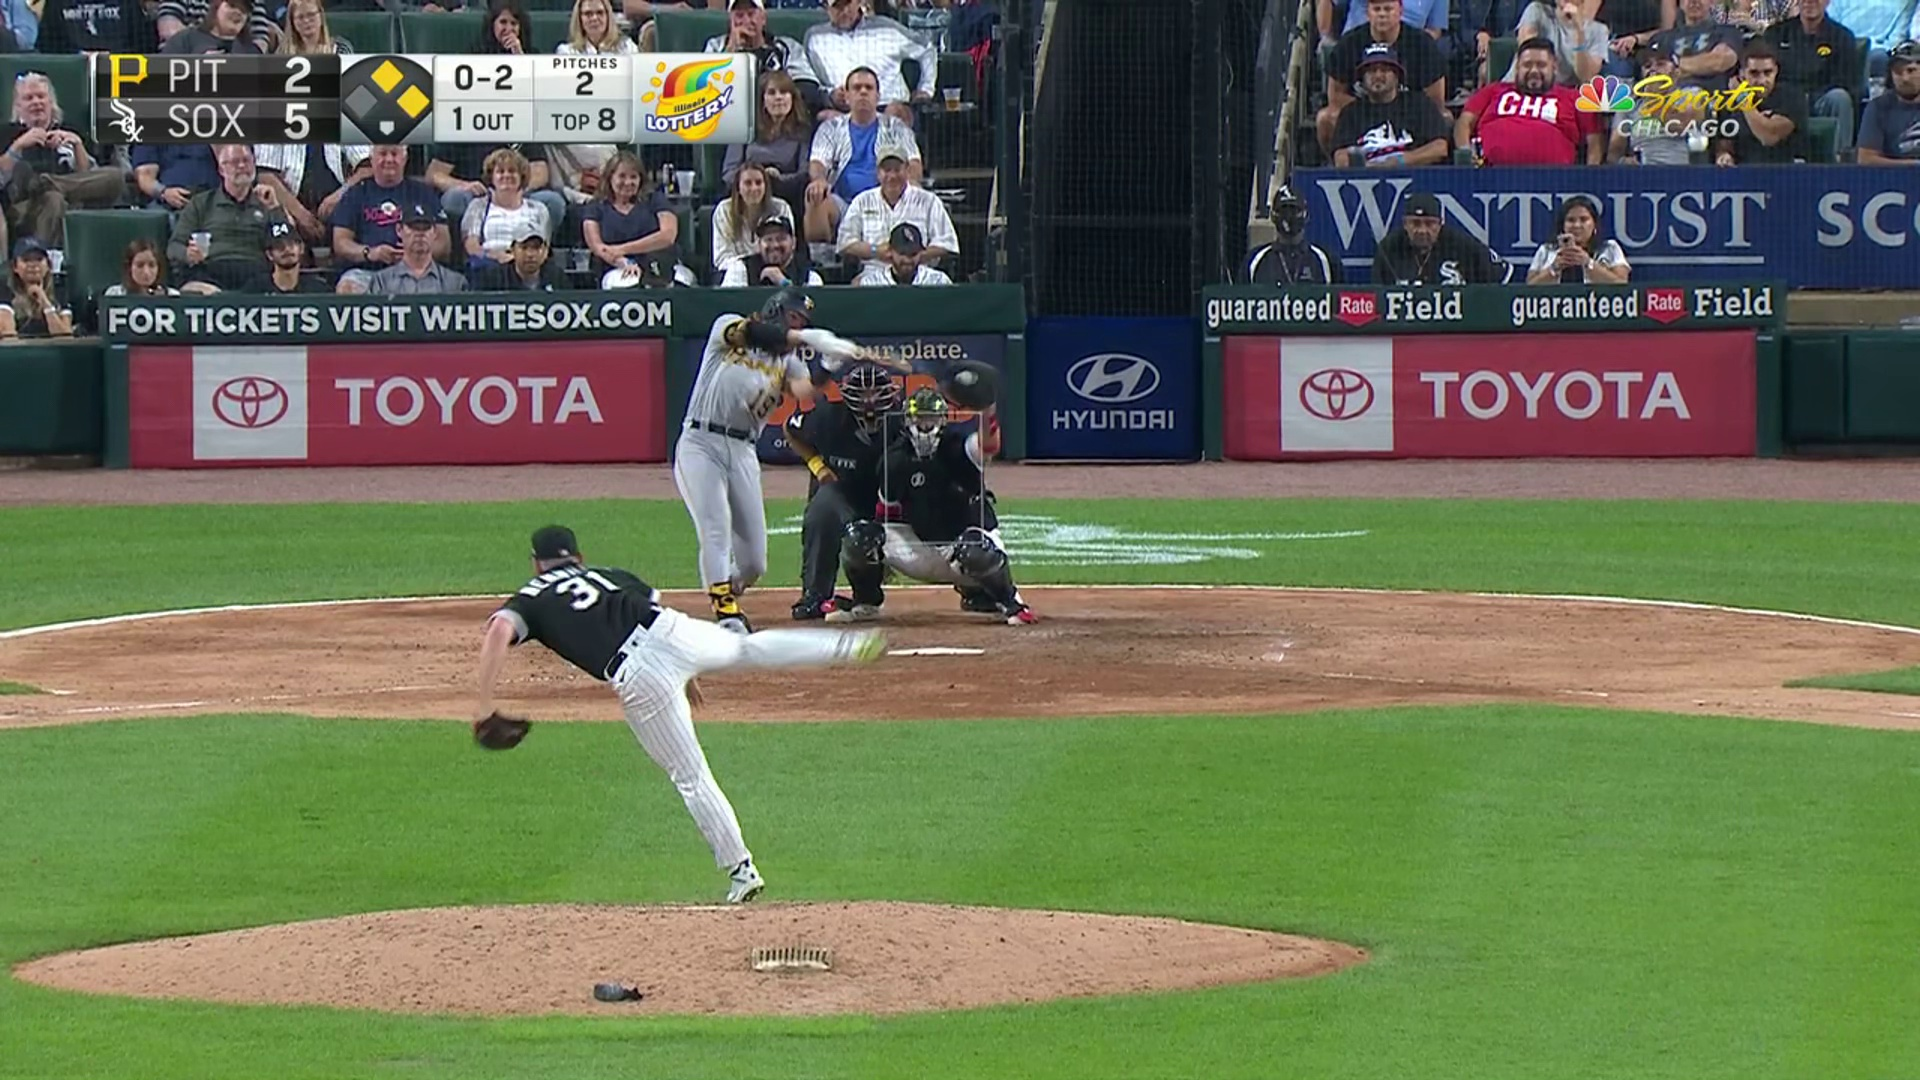baseball: (953, 369, 976, 385)
